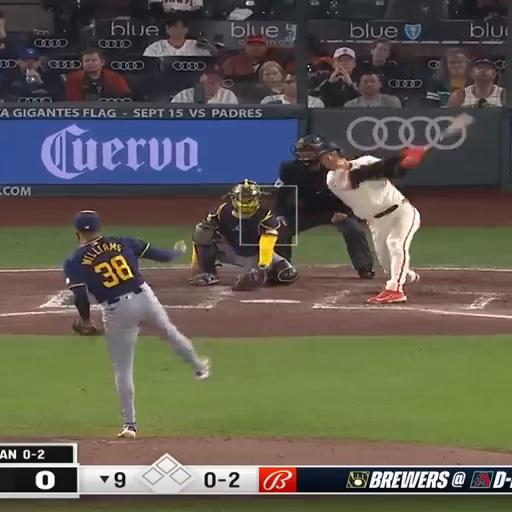bat: (437, 113, 474, 142)
